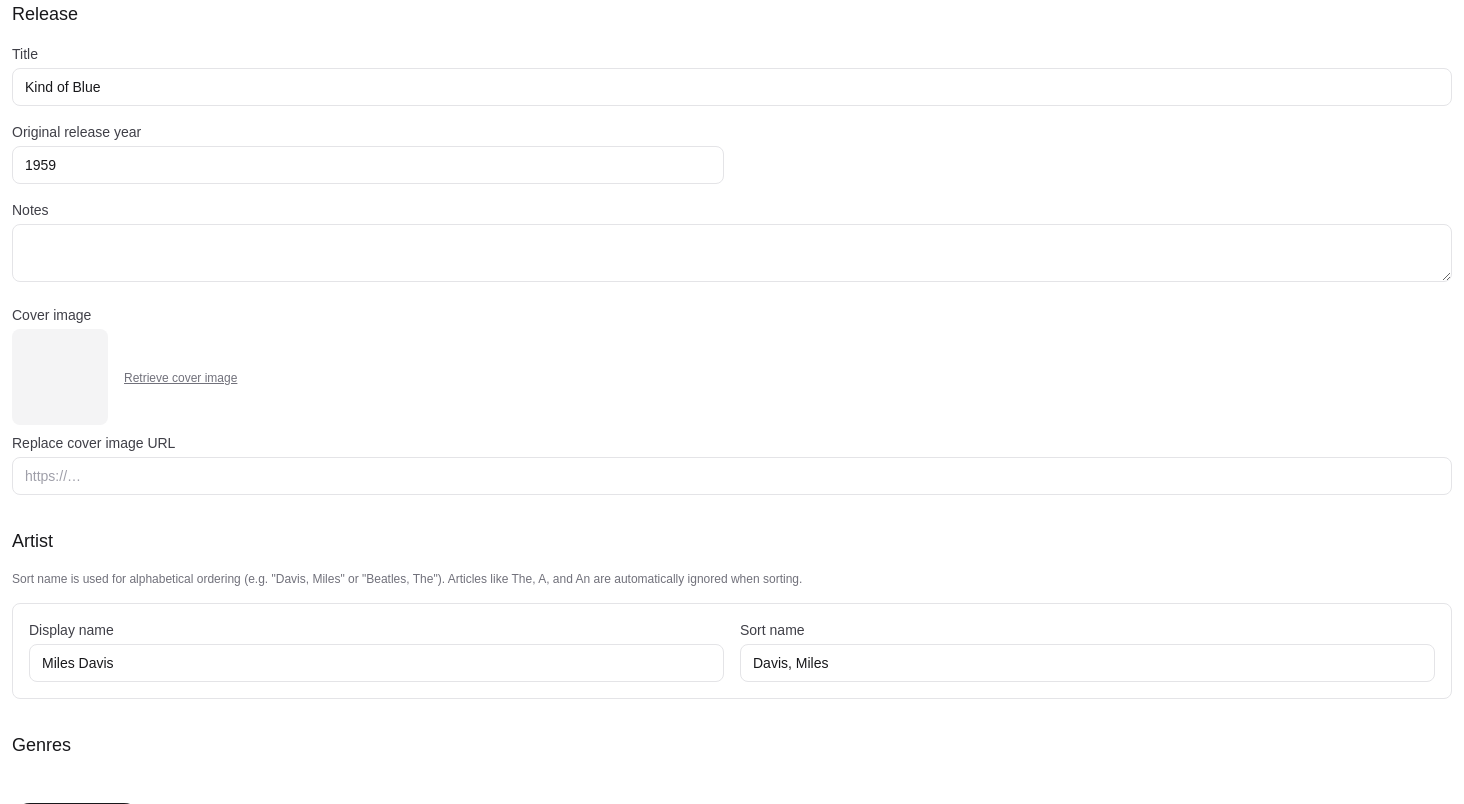
Test case: EditReleaseForm › shows the server error message when the request fails
Click the button "Retrieve cover image" at [181, 378], box x1=124 y1=370 x2=237 y2=386
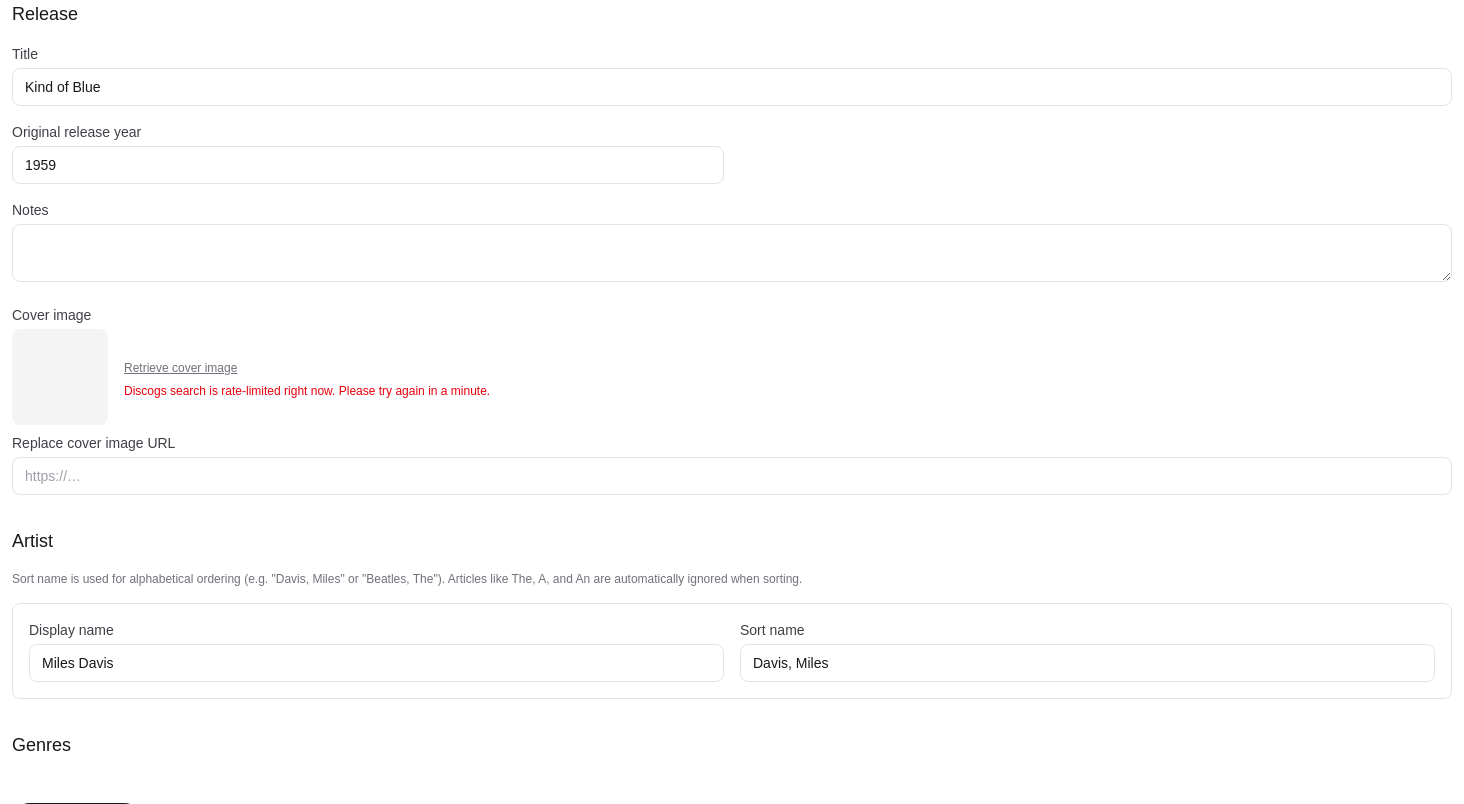
Result: the text "Discogs search is rate-limited right now. Please try again in a minute." is shown at x1=124 y1=383 x2=490 y2=399
